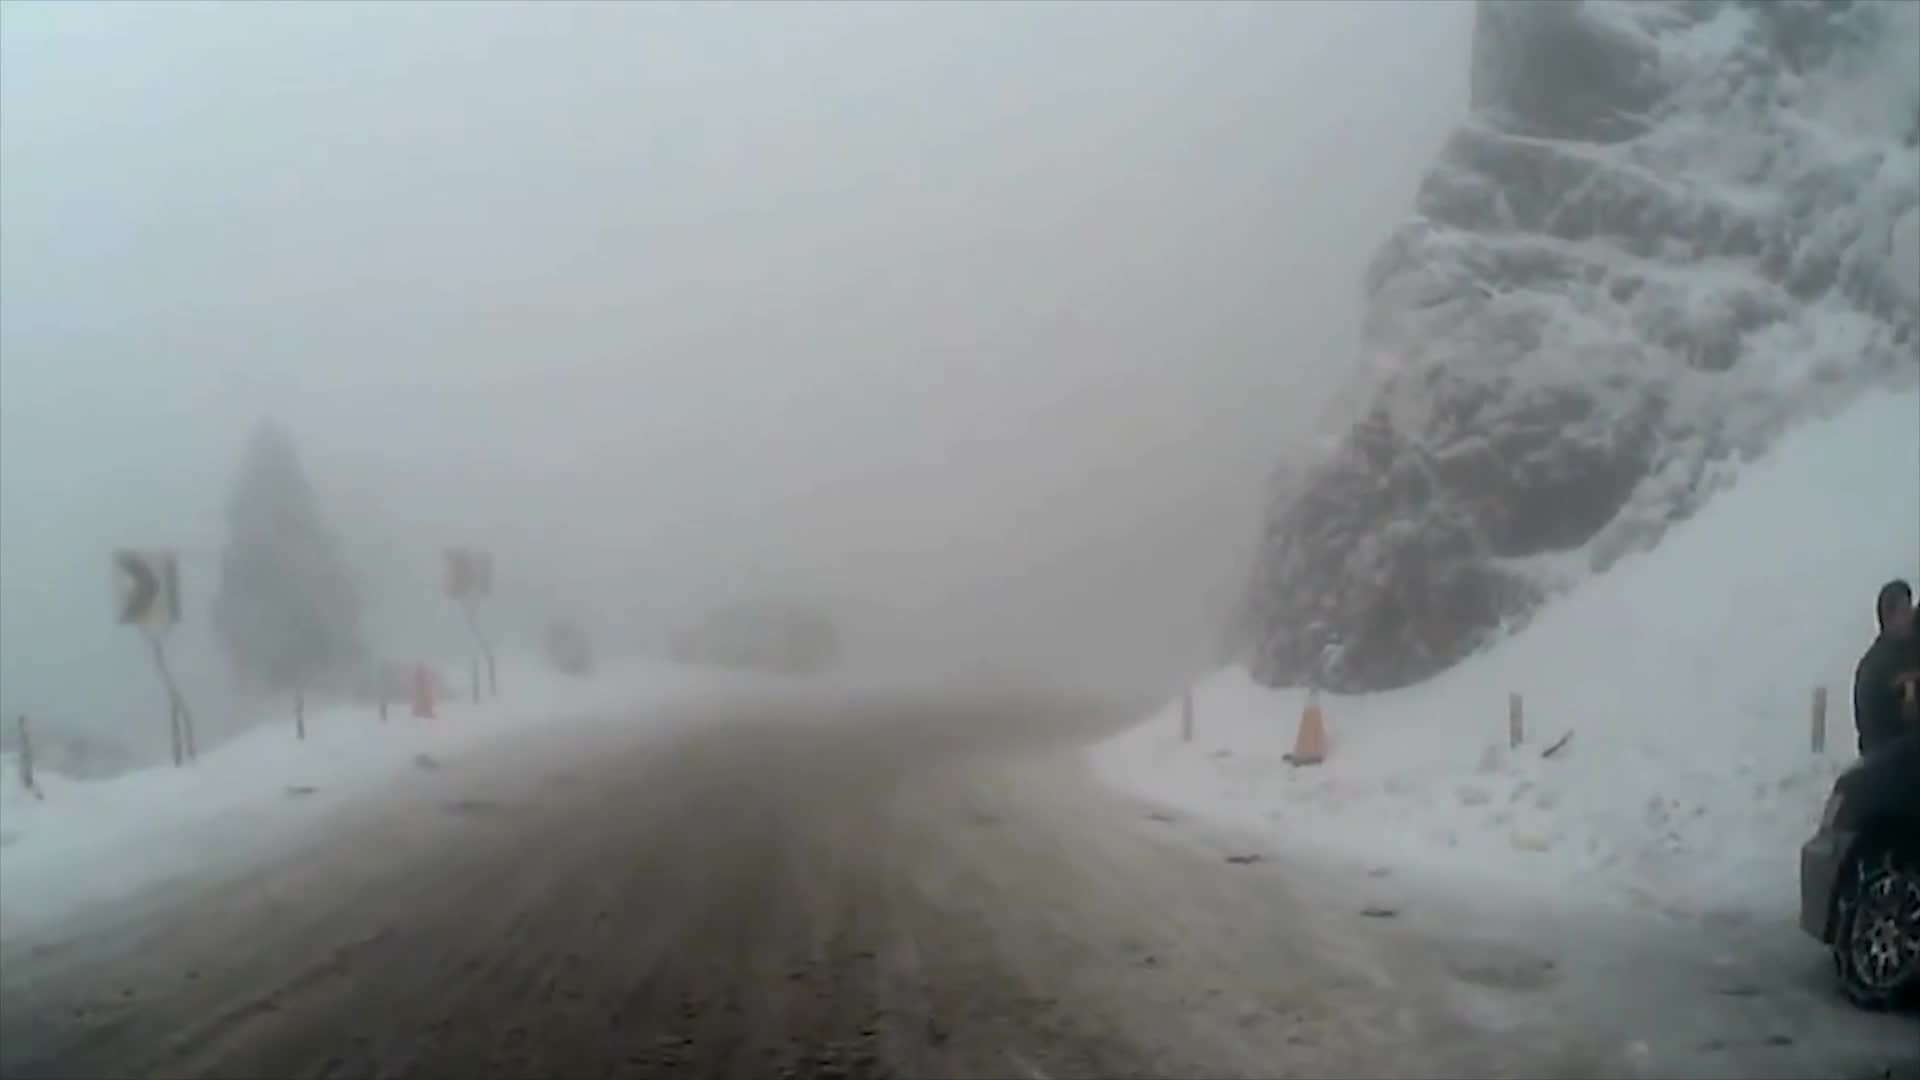pedestrian: (1852, 582, 1920, 911)
vehicle: (1794, 726, 1919, 1011)
